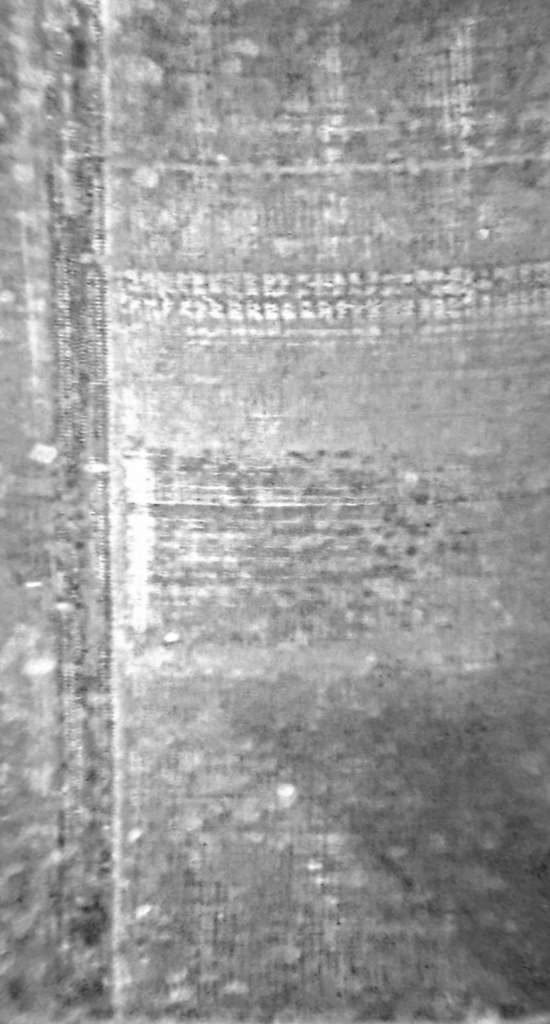splice: (23, 5, 138, 1024)
